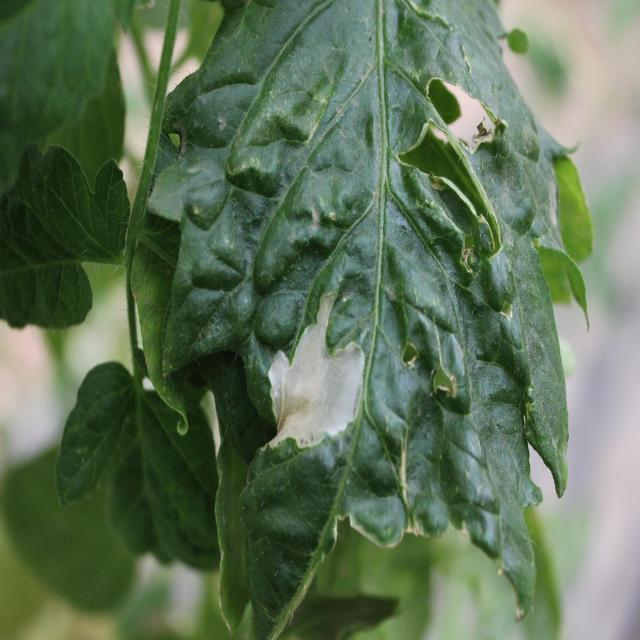Tuta absoluta: (267, 293, 366, 447)
